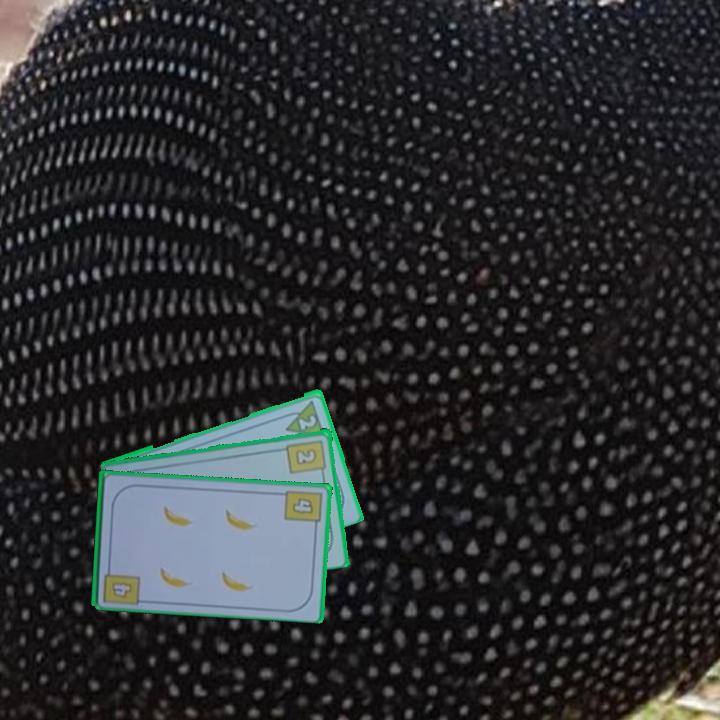2b: (283, 436, 329, 478)
2p: (295, 411, 319, 432)
4b: (281, 486, 324, 532), (108, 578, 136, 601)
